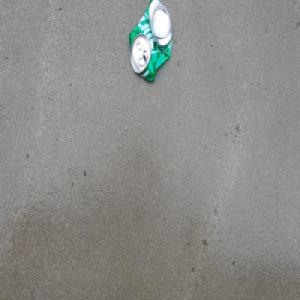SodaCan: (128, 0, 173, 85)
